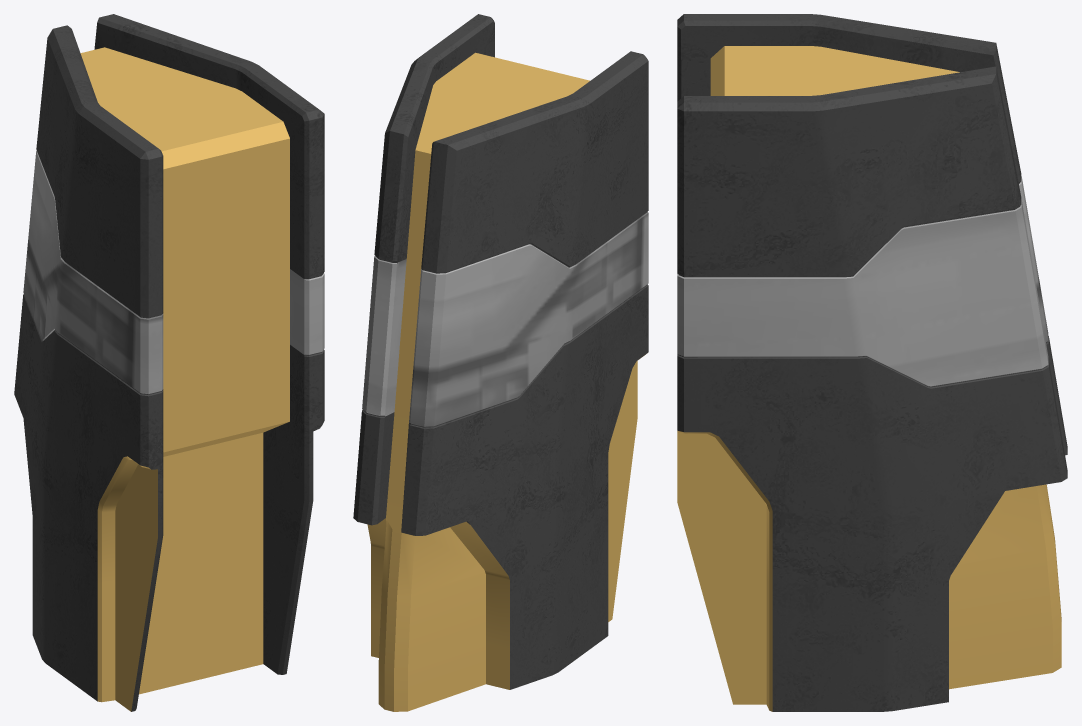
Rendered from NB_Wind_trap_top.fbx.
3 views of the same model, side by side, from view 1: azimuth 30°, elevation 25°; view 2: azimuth 150°, elevation 25°; view 3: azimuth 270°, elevation 25° (orthographic). The views are drawn at different scales.
Visible parts, largest first — view 1: NB_Wind_trap_top; view 2: NB_Wind_trap_top; view 3: NB_Wind_trap_top.
Boxes of the visible parts, box(x1,y1,x2,y2) form: NB_Wind_trap_top: box(14, 14, 324, 711); NB_Wind_trap_top: box(353, 14, 648, 711); NB_Wind_trap_top: box(677, 14, 1067, 711).
Size of the model in its own units: 200 by 600 by 350.
